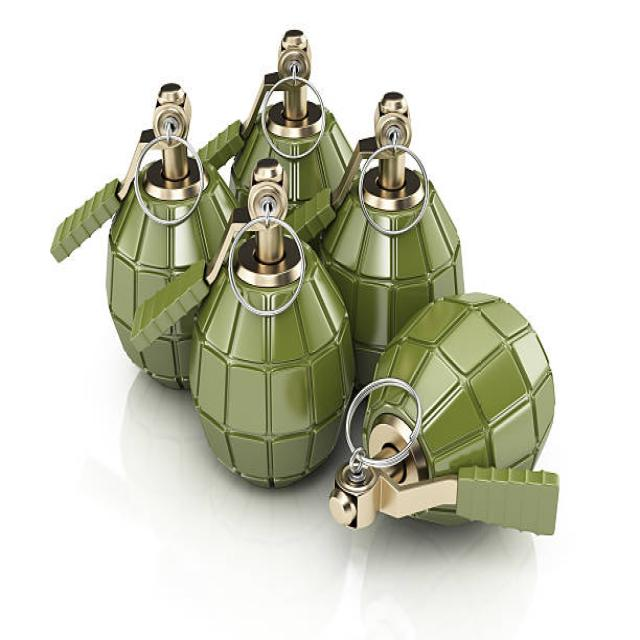grenade: (320, 285, 572, 549), (47, 79, 236, 392), (283, 88, 474, 360)
